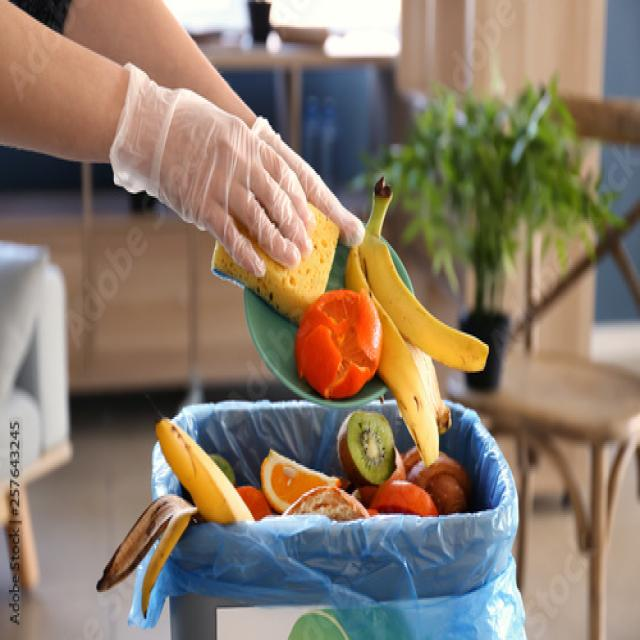plastic: (224, 534, 509, 628)
trash: (265, 282, 454, 524), (165, 417, 278, 534)
